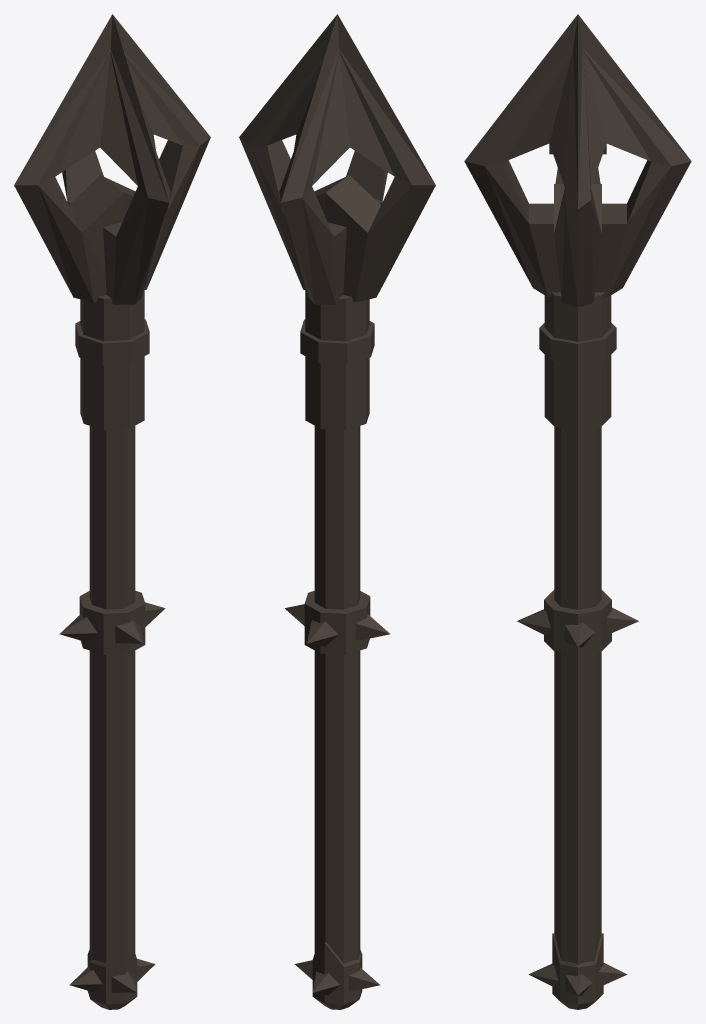
Rendered from hammer_5.glb.
The picture shows the model from 3 angles, left to right: view 1: azimuth 30°, elevation 25°; view 2: azimuth 150°, elevation 25°; view 3: azimuth 270°, elevation 25°; orthographic projection.
Visible parts, largest first — view 1: hammer_5; view 2: hammer_5; view 3: hammer_5.
Part boxes in pixels (x1,y1,x2,y2): hammer_5: (14, 14, 210, 1009); hammer_5: (239, 14, 435, 1009); hammer_5: (464, 14, 691, 1009).
Size of the model in its own units: 5197 by 24985 by 5197.
1 material, 1 textured.
